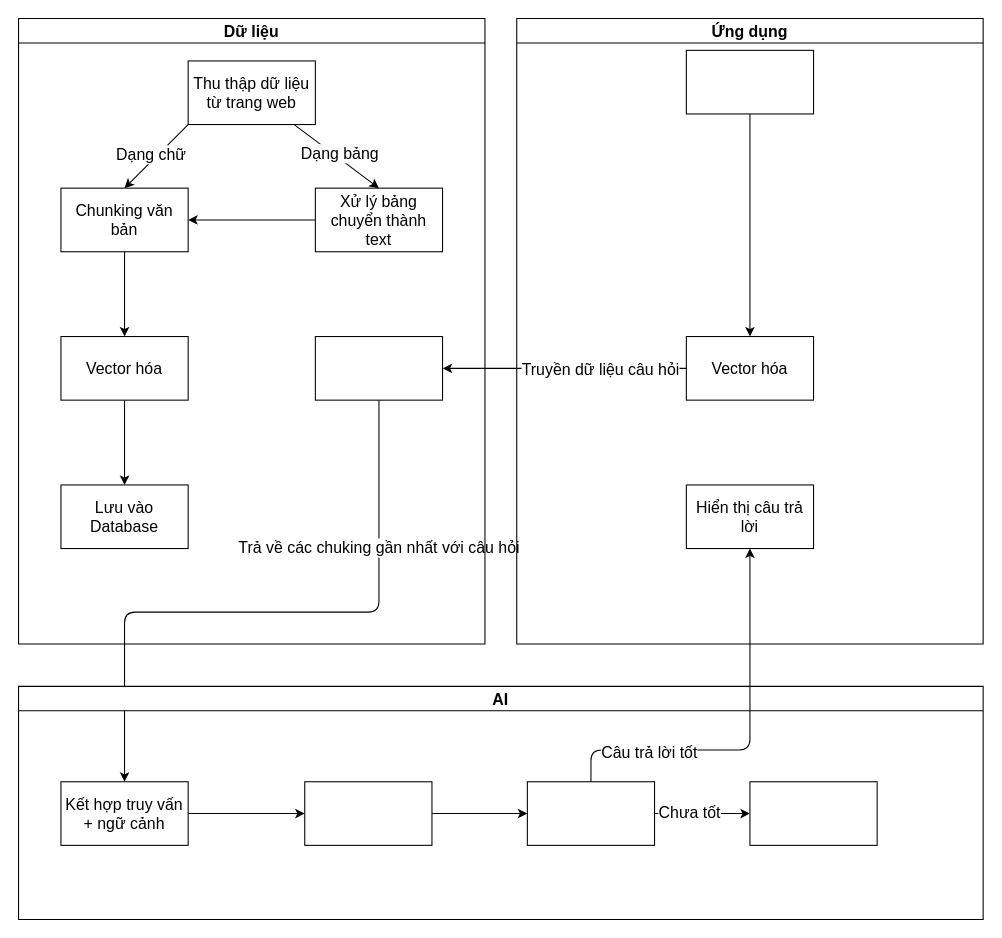
Some shapes in this 1002 by 938 pixel diagram are drawn without their labels. Each missing label, with the centre of its shape:
"Fine-tune mô hình thêm" goes at (813,813).
"Sinh phản hổi" goes at (368,813).
"Truy vấn từ người dùng" goes at (749,81).
"Tìm đoạn gần nhất trong FAISS" goes at (378,367).
"Đánh giá phản hồi (RLHF)" goes at (590,813).
